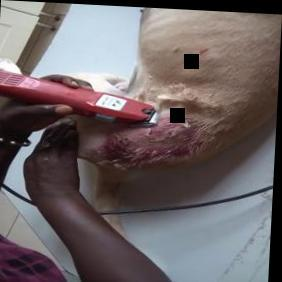skin_lesions: (107, 111, 193, 166)
